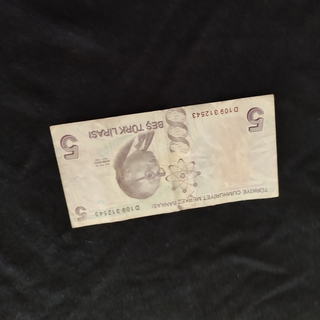5TLBack: (47, 91, 280, 229)
